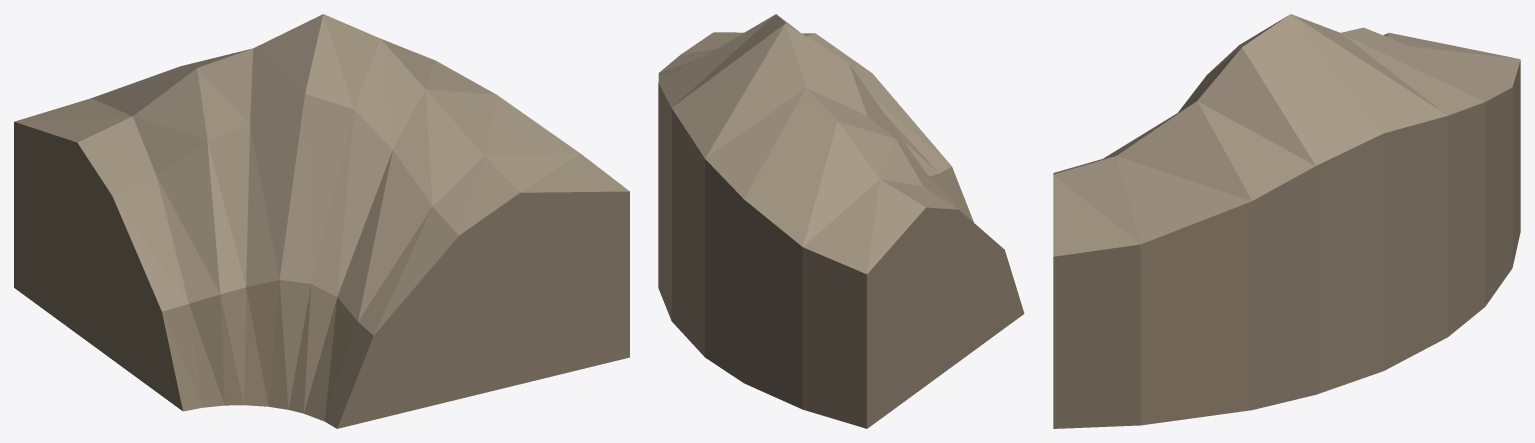
File: coast_rock_inner_high.glb
The picture shows the model from 3 angles, left to right: view 1: azimuth 30°, elevation 25°; view 2: azimuth 150°, elevation 25°; view 3: azimuth 270°, elevation 25°; orthographic projection. The views are drawn at different scales.
Visible parts, largest first — view 1: coast_rock_inner_high; view 2: coast_rock_inner_high; view 3: coast_rock_inner_high.
Boxes of the visible parts, <box> form: coast_rock_inner_high: <box>14,14,629,428</box>; coast_rock_inner_high: <box>658,14,1024,428</box>; coast_rock_inner_high: <box>1053,14,1520,428</box>.
Size of the model in its own units: 1.6 by 1.2 by 1.6.
